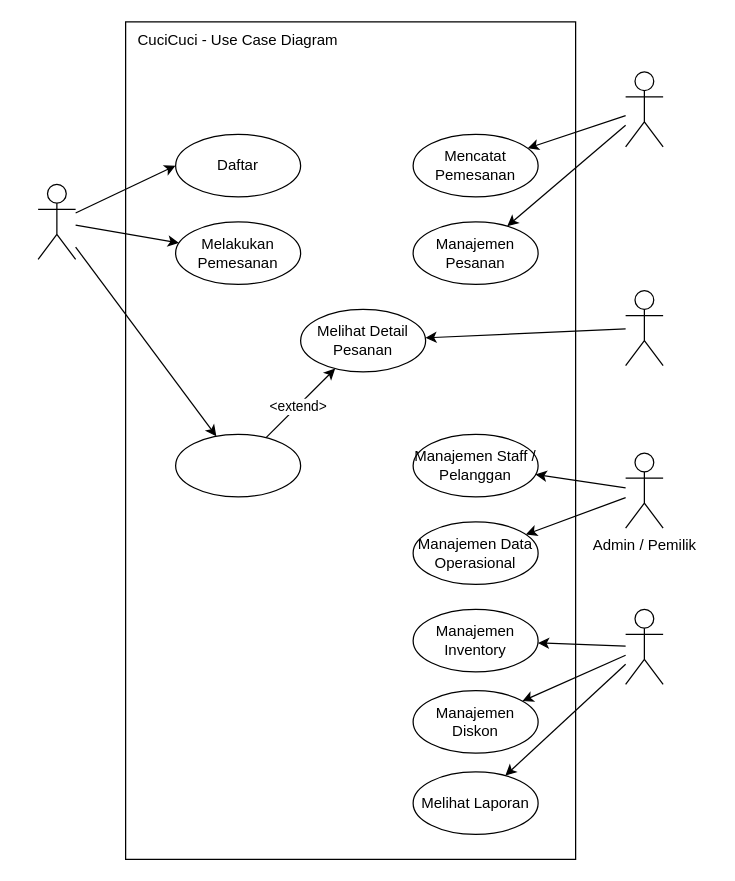
The diagram is 735 pixels wide and 881 high, and some of its shapes have lost their labels. The centre of each missing label's shape, as x and y in pixels:
"Kurir" belongs at (643,327).
"Memantau Pesanan" belongs at (237,465).
"Pelanggan (Online)" belongs at (56,221).
"Staff" belongs at (643,109).
"Supervisor / Manajer" belongs at (643,646).
